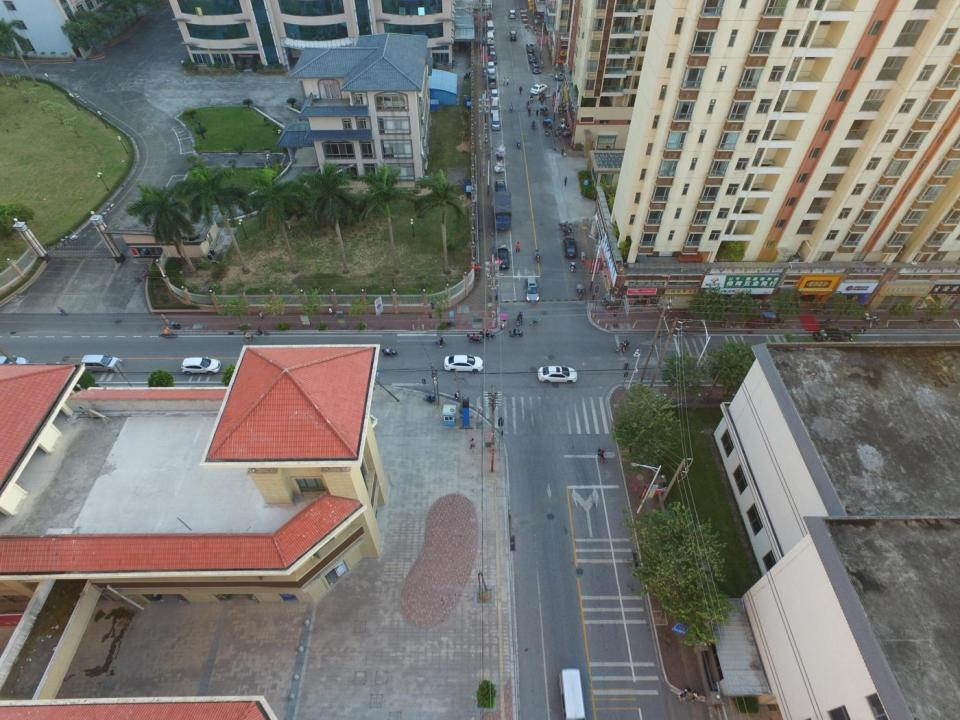car: (537, 365, 578, 384), (180, 356, 221, 375), (443, 353, 483, 372), (812, 328, 852, 344), (0, 354, 28, 371), (524, 277, 541, 303), (495, 248, 510, 270), (563, 237, 577, 258), (494, 180, 507, 198), (530, 83, 548, 95), (490, 88, 499, 103), (525, 43, 536, 55), (487, 60, 496, 74), (490, 48, 497, 64), (528, 53, 538, 64), (531, 62, 540, 74), (510, 28, 517, 43), (489, 44, 495, 55)
truck: (488, 74, 496, 89)
van: (557, 668, 585, 720), (82, 354, 122, 374), (555, 71, 575, 81), (489, 99, 500, 116), (492, 110, 500, 131), (486, 20, 495, 34), (487, 32, 495, 45), (508, 9, 516, 19)
